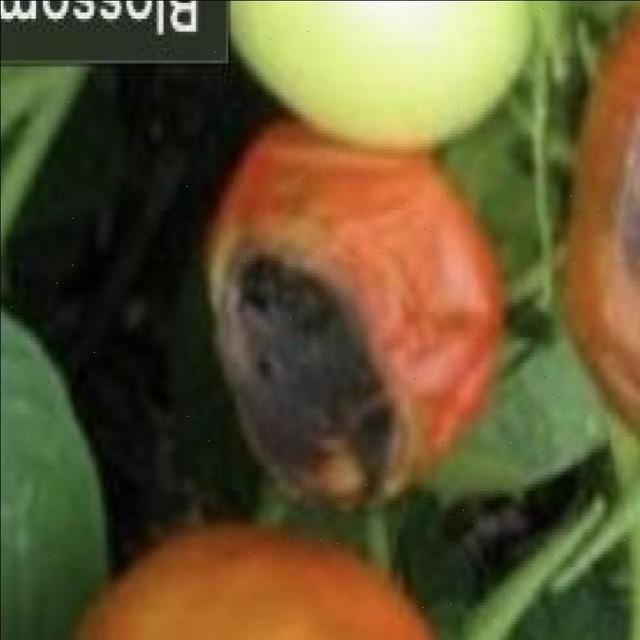Blossom End Rot Fruit: (17, 107, 418, 247)
